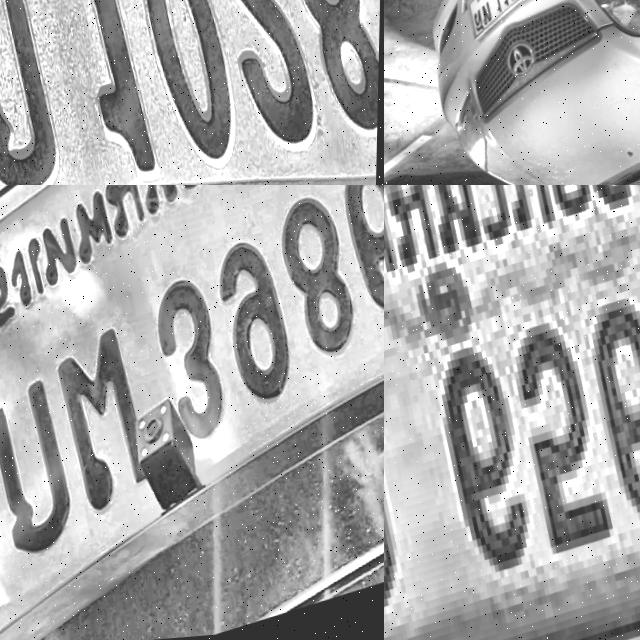license-plate: (0, 185, 384, 640), (384, 185, 640, 640), (0, 0, 384, 185), (454, 0, 542, 50)
